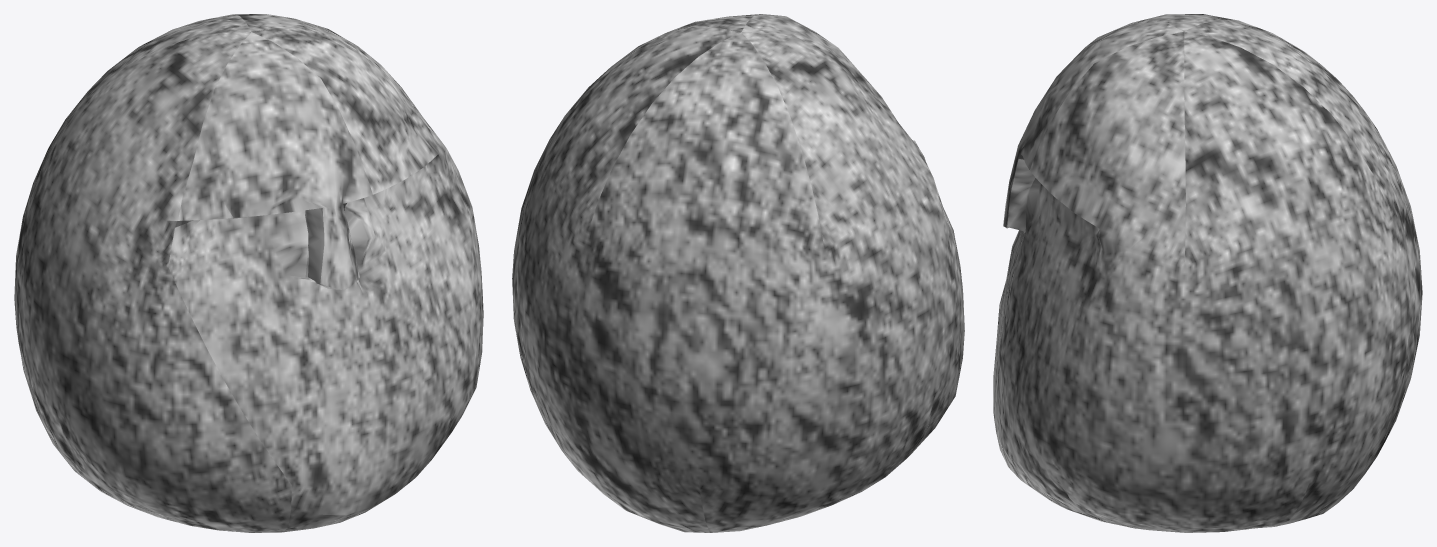
The model's file is bashka.glb.
3 views of the same model, side by side, from view 1: azimuth 30°, elevation 25°; view 2: azimuth 150°, elevation 25°; view 3: azimuth 270°, elevation 25° (orthographic). The views are drawn at different scales.
Parts seen in each view (by area): view 1: head; view 2: head; view 3: head.
Boxes of the visible parts, left/top/right/bottom form: head: left=14, top=14, right=483, bottom=532; head: left=512, top=14, right=964, bottom=532; head: left=993, top=14, right=1422, bottom=532.
Size of the model in its own units: 1.98 by 2.2 by 1.8.
1 material, 1 textured.
